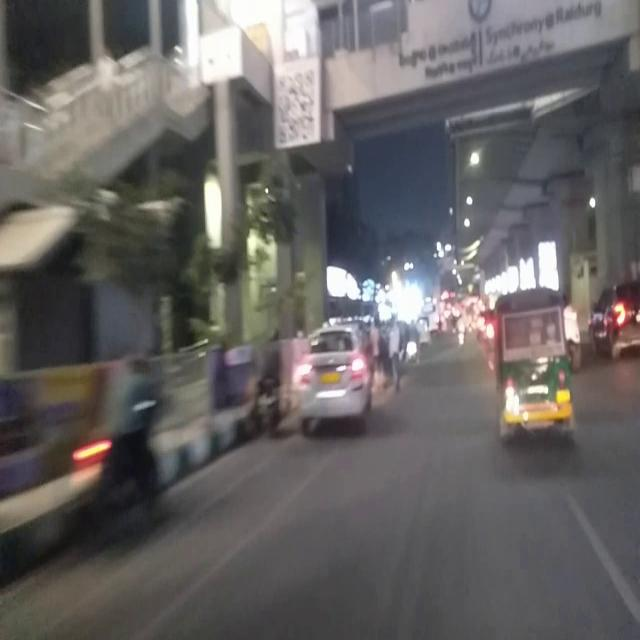auto: (492, 284, 575, 451)
car: (294, 326, 373, 439), (586, 284, 640, 359)
road: (101, 444, 640, 640), (294, 361, 640, 444), (421, 339, 490, 373)
sidewalk: (0, 485, 102, 557), (156, 413, 240, 472)
